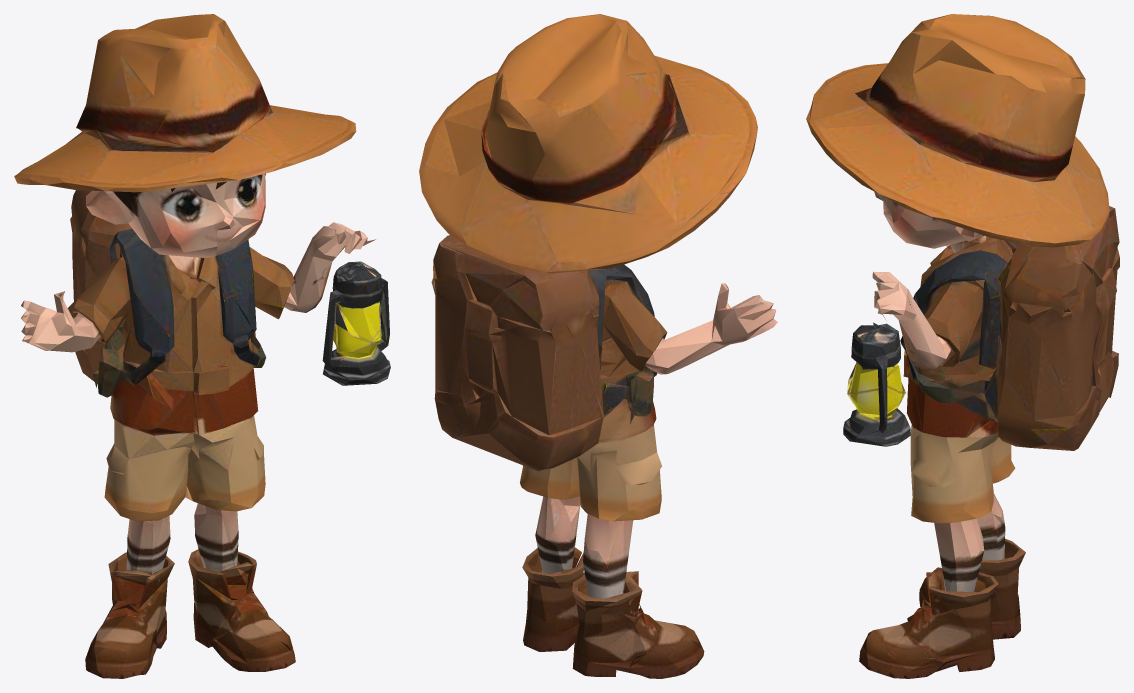
Rendered from held_entdecker.glb.
The picture shows the model from 3 angles, left to right: view 1: azimuth 30°, elevation 25°; view 2: azimuth 150°, elevation 25°; view 3: azimuth 270°, elevation 25°; orthographic projection.
Size of the model in its own units: 1.09 by 1.9 by 0.872.
1 material, 1 textured.
